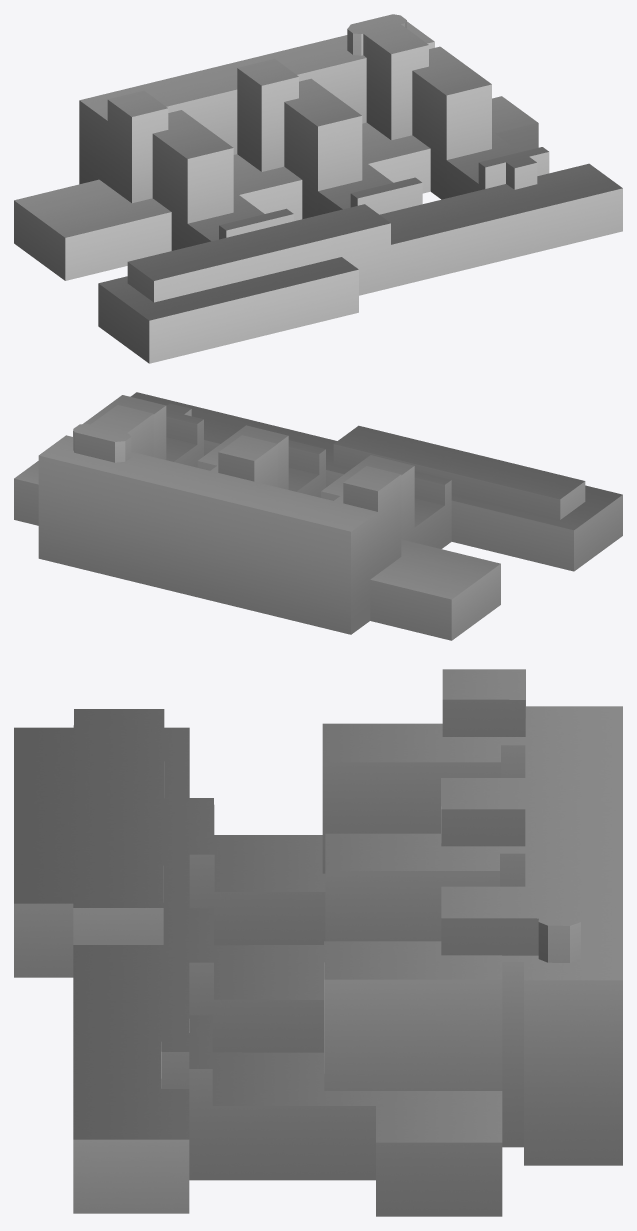
Rendered from bauwesen1.7.dae.
3 views of the same model, one above another, from view 1: azimuth 30°, elevation 25°; view 2: azimuth 150°, elevation 25°; view 3: azimuth 270°, elevation 25° (orthographic). The views are drawn at different scales.
Visible parts, largest first — view 1: Linie02_None; view 2: Linie02_None; view 3: Linie02_None.
Boxes of the visible parts, x1=… form: Linie02_None: x1=14, y1=14, x2=622, y2=363; Linie02_None: x1=14, y1=392, x2=622, y2=640; Linie02_None: x1=14, y1=669, x2=622, y2=1216.
Size of the model in its own units: 45.37 by 28.14 by 11.34.
1 material, 1 textured.
